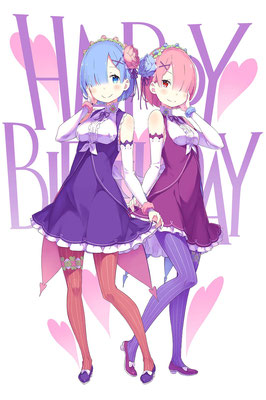rem: (30, 38, 145, 382)
